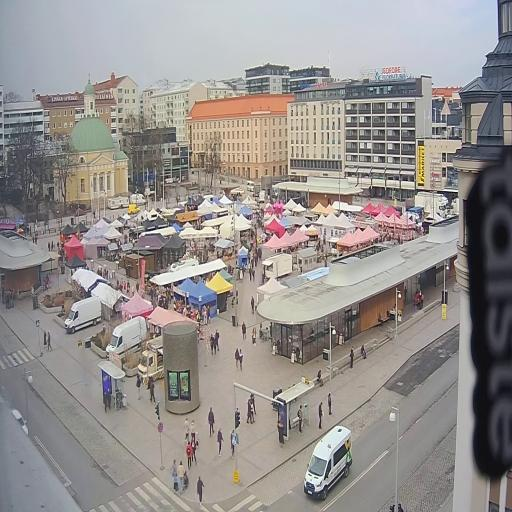car: (9, 403, 31, 439)
delivery: (299, 418, 360, 503), (104, 307, 148, 370), (62, 287, 104, 339), (412, 192, 449, 226), (126, 190, 148, 208), (127, 200, 142, 218)
